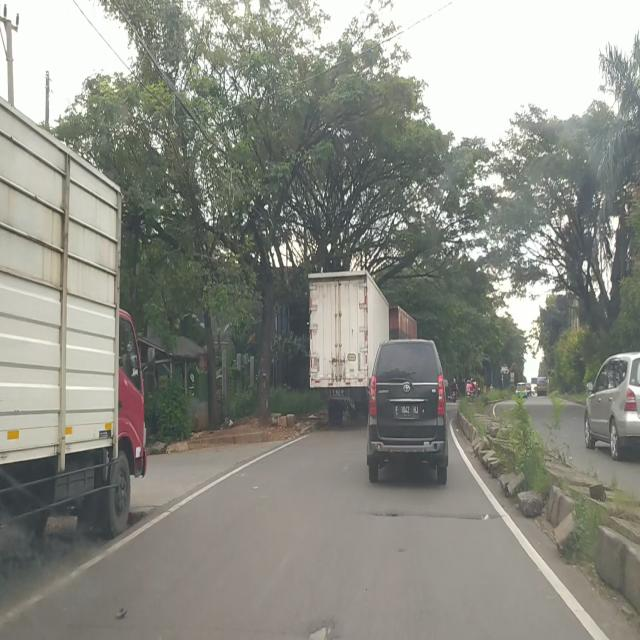Sewer Cover: (360, 505, 500, 523)
